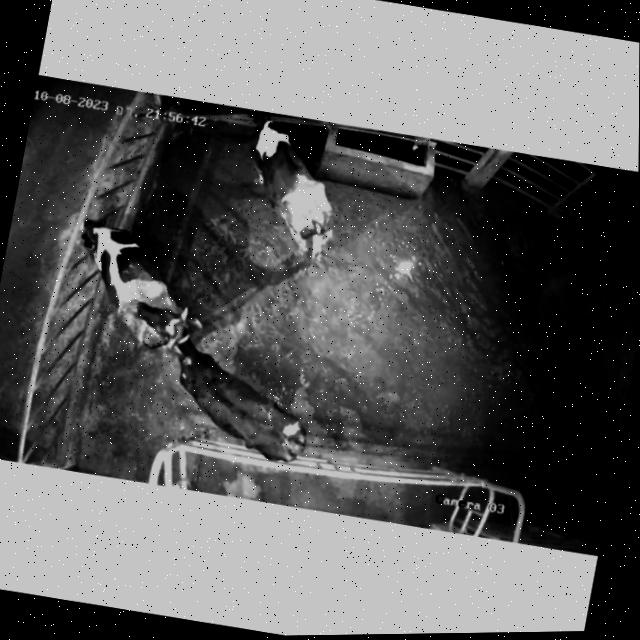propping: (113, 282, 212, 363)
